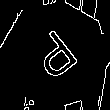P_SE: (25, 24, 85, 86)
